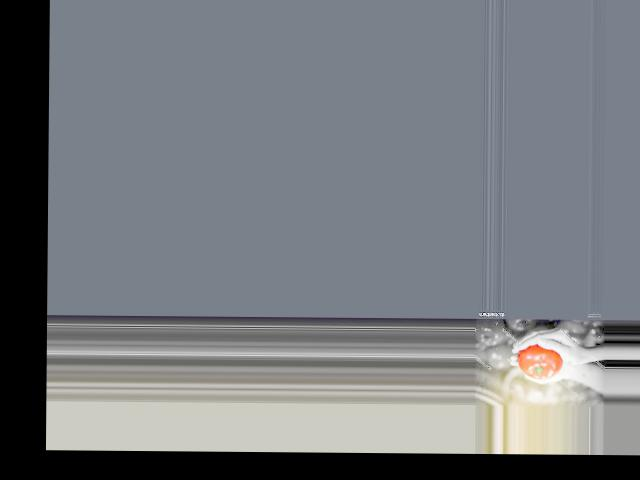tomato: (517, 344, 563, 379)
